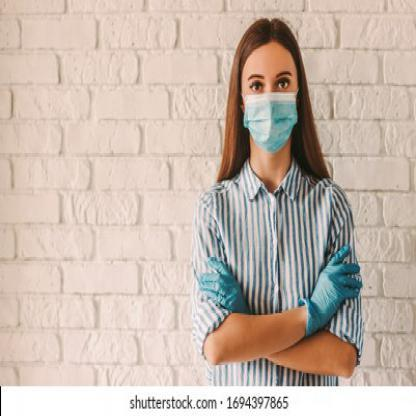Gloves: (299, 242, 361, 336), (200, 254, 250, 315)
